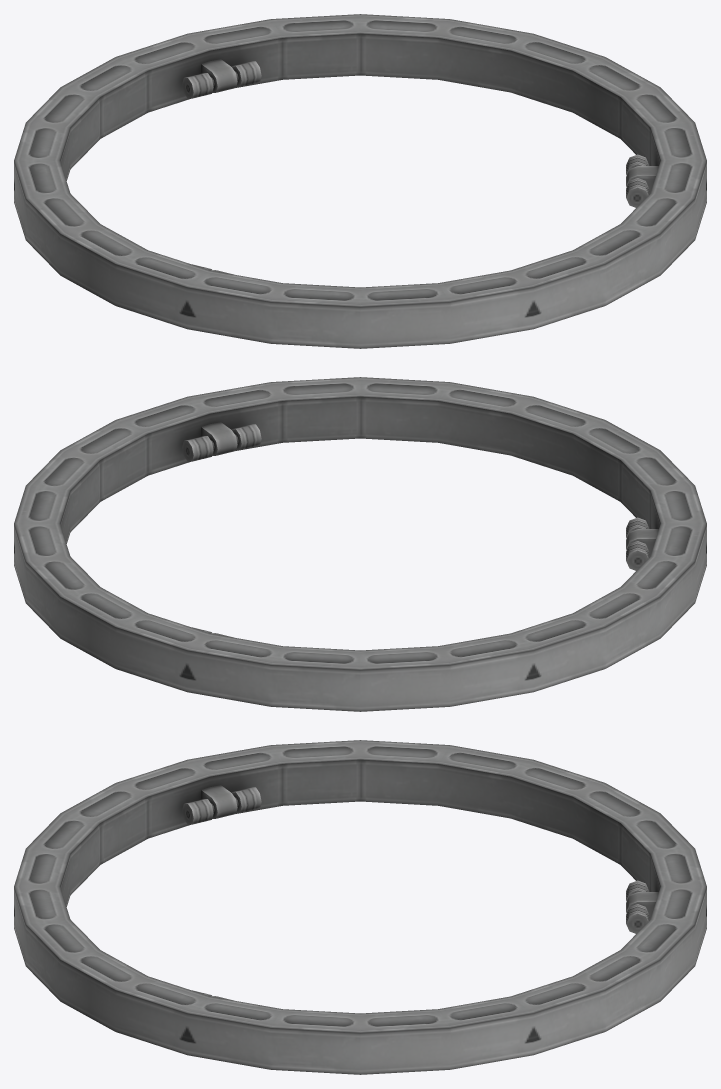
The model's file is castor_decoupler_s1p5_1.obj.
The picture shows the model from 3 angles, top to bottom: view 1: azimuth 30°, elevation 25°; view 2: azimuth 150°, elevation 25°; view 3: azimuth 270°, elevation 25°; orthographic projection.
Parts seen in each view (by area): view 1: castor_decoupler_s1p5_1; view 2: castor_decoupler_s1p5_1; view 3: castor_decoupler_s1p5_1.
Part boxes in pixels (x1,y1,x2,y2): castor_decoupler_s1p5_1: (14,14,706,348); castor_decoupler_s1p5_1: (14,377,706,711); castor_decoupler_s1p5_1: (14,740,706,1074).
Size of the model in its own units: 1.88 by 0.125 by 1.88.
